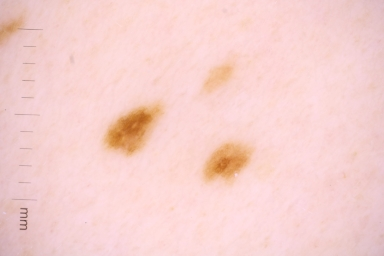nevus: (104, 107, 156, 153), (204, 147, 252, 188)
